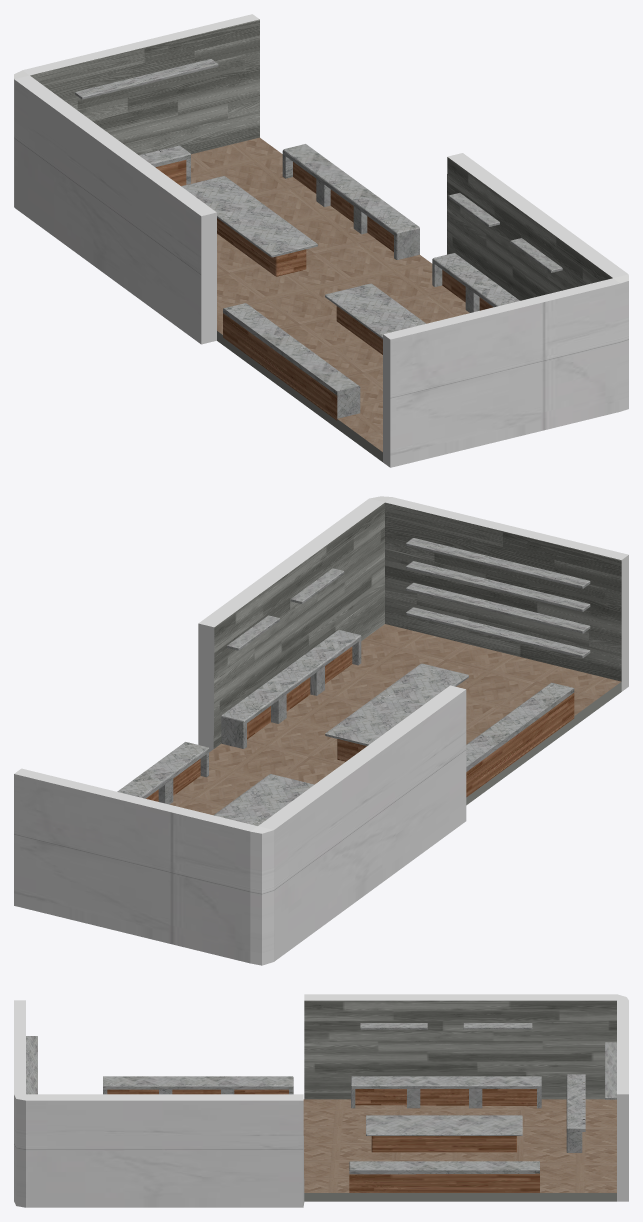
The model's file is storekkk3d.glb.
3 views of the same model, one above another, from view 1: azimuth 30°, elevation 25°; view 2: azimuth 150°, elevation 25°; view 3: azimuth 270°, elevation 25° (orthographic). The views are drawn at different scales.
Parts seen in each view (by area): view 1: Cube; view 2: Cube; view 3: Cube.
Part boxes in pixels (bbox=[...]): Cube: bbox=[14, 14, 628, 467]; Cube: bbox=[14, 496, 628, 965]; Cube: bbox=[14, 994, 628, 1207].
Size of the model in its own units: 69.87 by 32.98 by 171.
5 materials, 5 textured.
